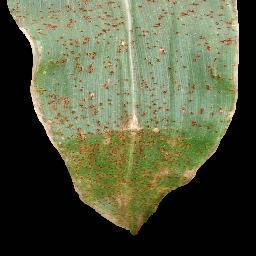Corn_Common_Rust: (83, 0, 243, 238), (42, 0, 82, 203), (7, 0, 42, 129)
